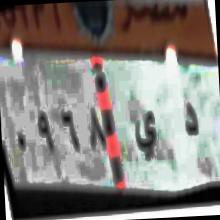0: (13, 118, 32, 166)
6: (58, 102, 80, 160)
8: (85, 108, 107, 156)
9: (36, 106, 58, 160)
daal: (181, 98, 200, 144)
yaa: (128, 101, 160, 163)
